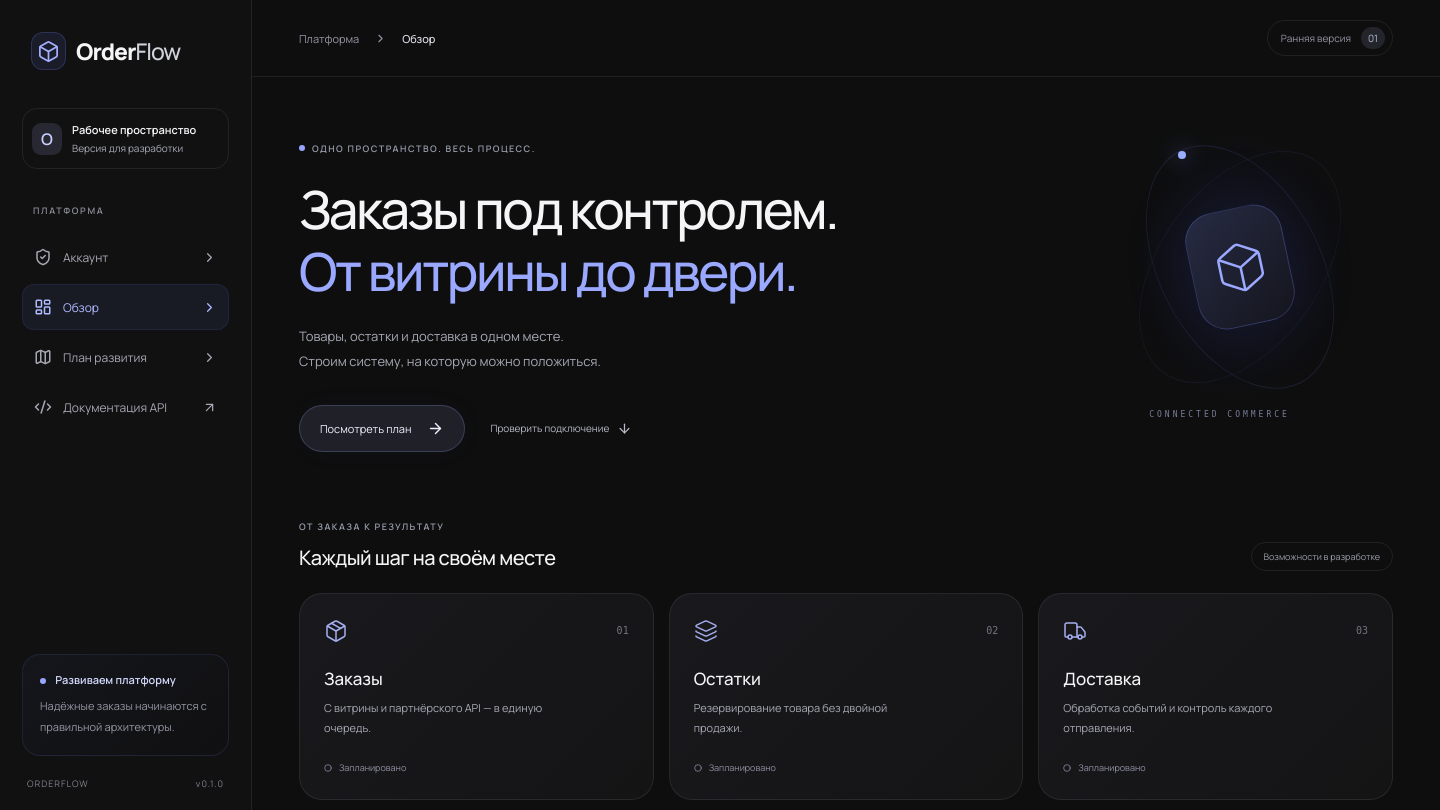
workspace › opens the roadmap and returns to overview
What coordinates should you click on to do the following:
click the button "Посмотреть план"
I would click on:
 (382, 428)
Its box is left=299, top=405, right=466, bottom=452.
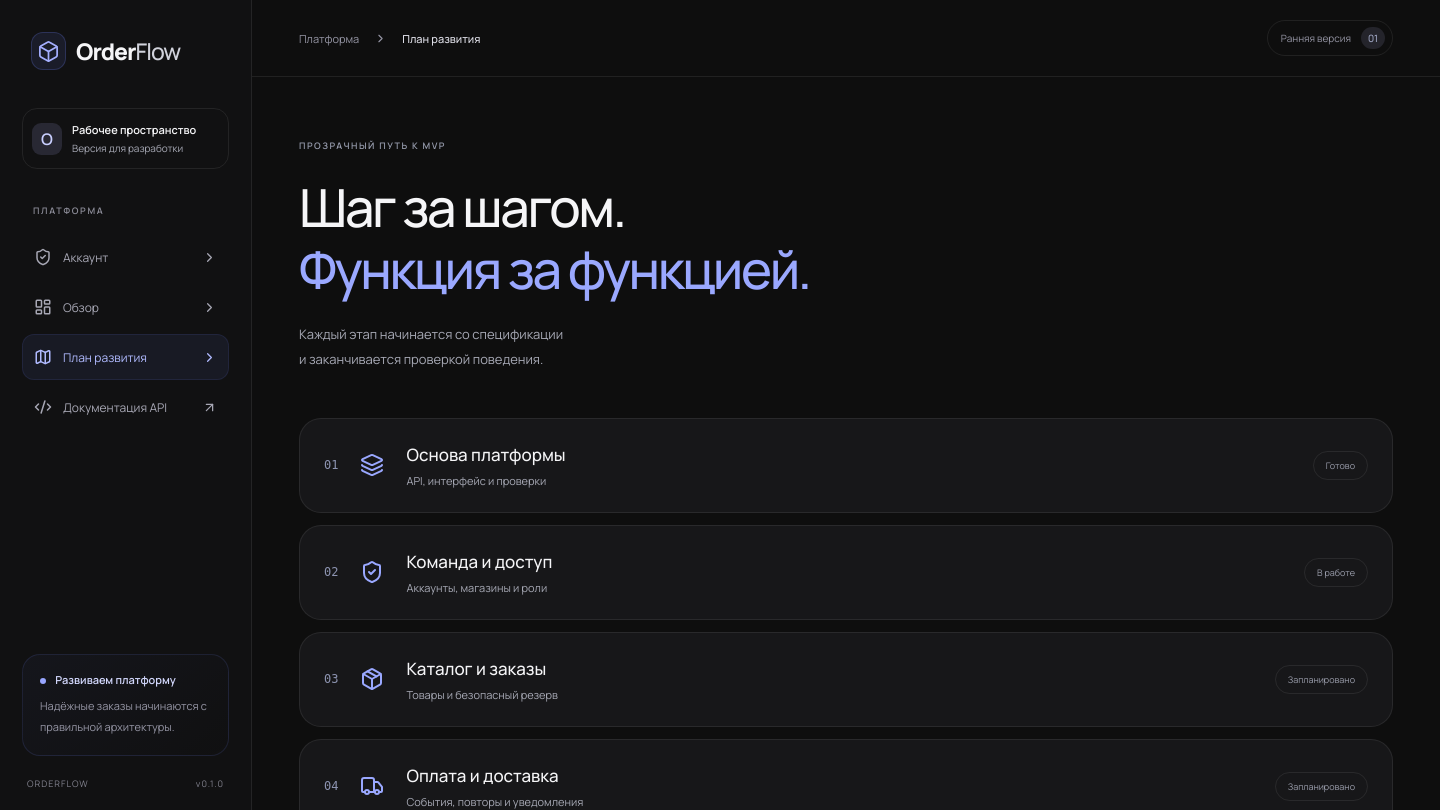
expect the heading "Команда и доступ" is shown: met, box left=406, top=550, right=552, bottom=573
What coordinates should you click on to do the following:
click the button "Обзор"
I would click on:
 (126, 307)
Its box is left=22, top=284, right=229, bottom=330.
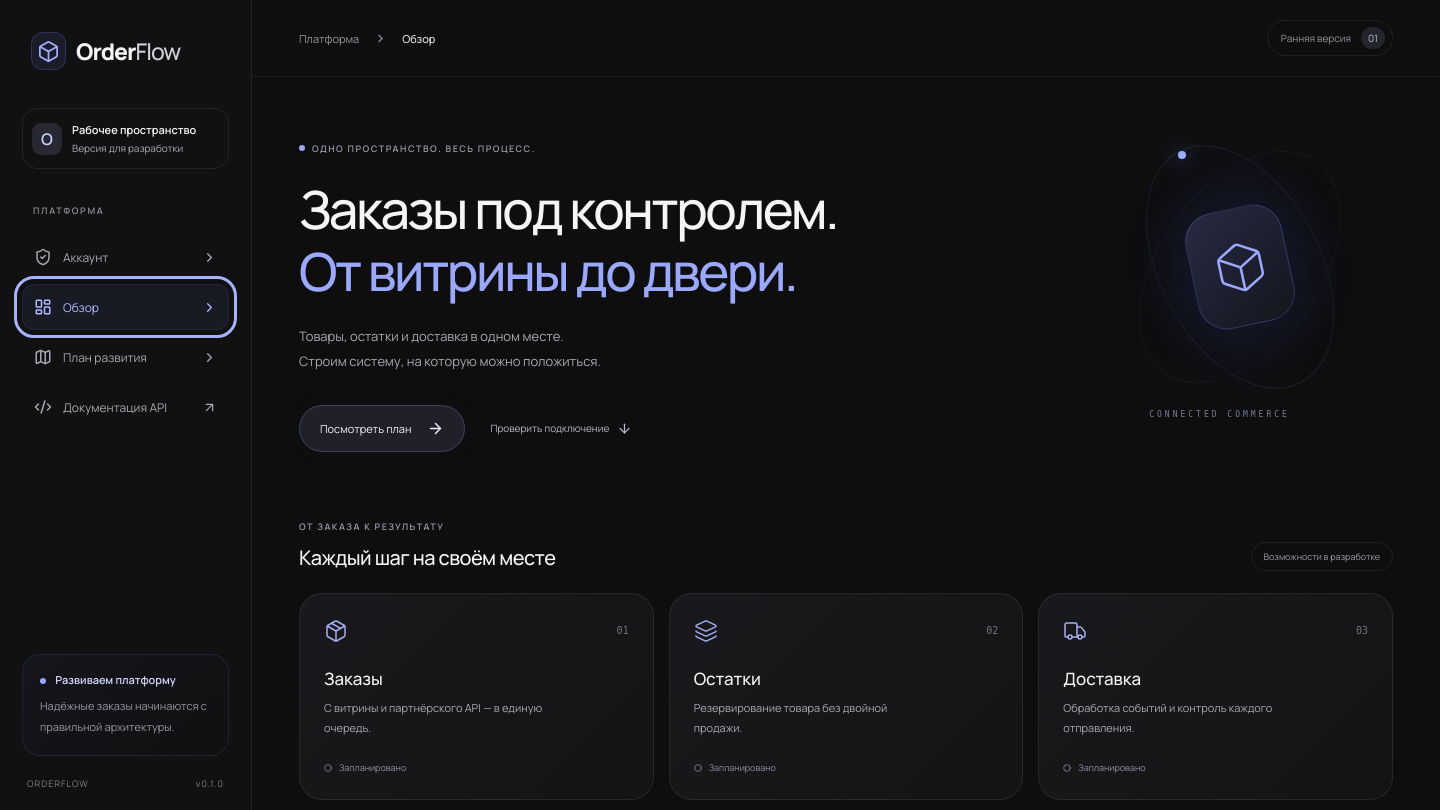
expect the heading "Заказы под контролем.От витрины до двери." is shown: met, box left=299, top=173, right=837, bottom=307
